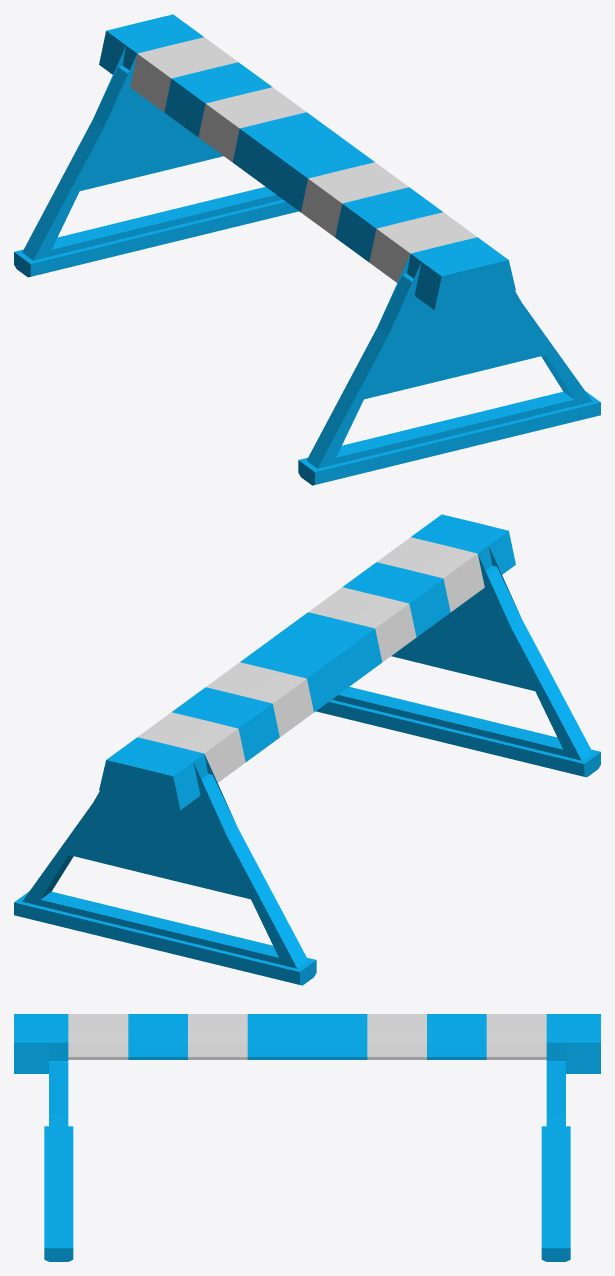
The model's file is Obstacle1.fbx.
3 renders of one model, top to bottom at view 1: azimuth 30°, elevation 25°; view 2: azimuth 150°, elevation 25°; view 3: azimuth 270°, elevation 25°, orthographic. The views are drawn at different scales.
Parts seen in each view (by area): view 1: Cube; view 2: Cube; view 3: Cube.
Part boxes in pixels (<box>): Cube: <box>14,14,600,485</box>; Cube: <box>14,514,600,985</box>; Cube: <box>14,1014,600,1261</box>.
Size of the model in its own units: 639 by 421 by 1298.
